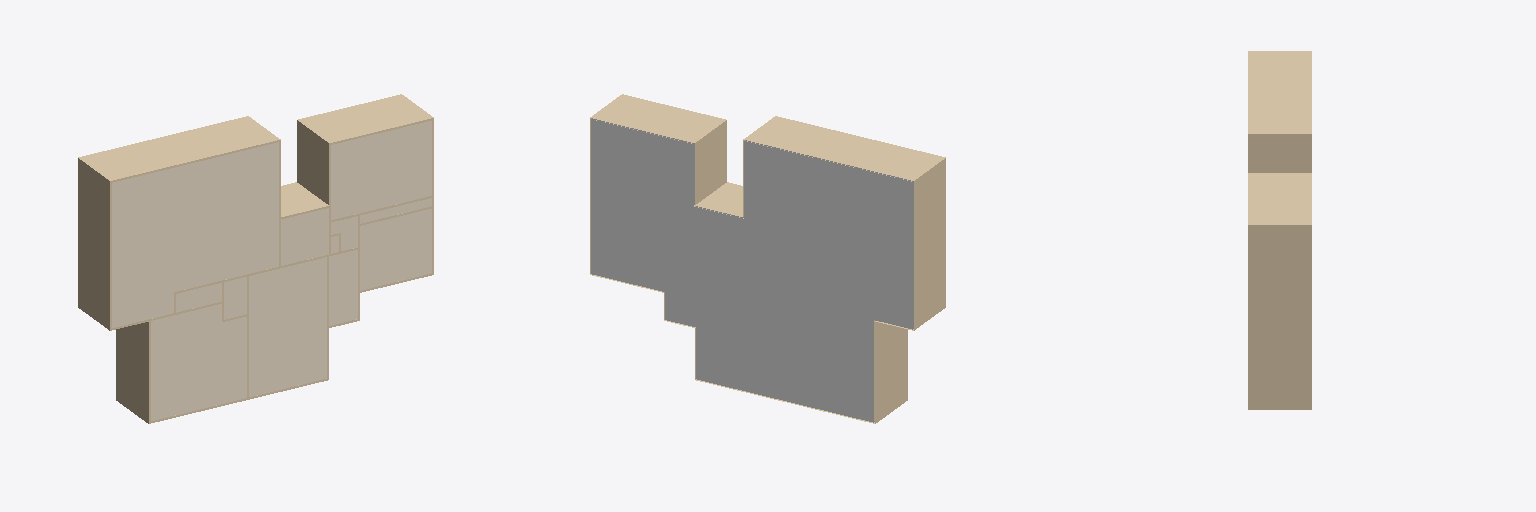
File: punch_TEST_1a1a1a.obj
The picture shows the model from 3 angles: view 1: azimuth 30°, elevation 25°; view 2: azimuth 150°, elevation 25°; view 3: azimuth 270°, elevation 25°; orthographic projection.
Visible parts, largest first — view 1: Mesh_170, Mesh_171, Mesh_143, Mesh_142, Mesh_169, Mesh_209, Mesh_211, Mesh_147, Mesh_189, Mesh_227, Mesh_140, Mesh_190 (+21 smaller); view 2: Mesh_186, Mesh_187, Mesh_143, Mesh_142, Mesh_185, Mesh_219, Mesh_221, Mesh_203, Mesh_147, Mesh_235, Mesh_204, Mesh_140 (+21 smaller); view 3: Mesh_148, Mesh_143, Mesh_147, Mesh_144, Mesh_138.
Boxes of the visible parts, x1,y1,x2,y2 form: Mesh_170: [112, 183, 278, 291]; Mesh_171: [113, 142, 278, 218]; Mesh_143: [78, 116, 280, 180]; Mesh_142: [78, 158, 109, 330]; Mesh_169: [112, 185, 173, 327]; Mesh_209: [152, 317, 246, 420]; Mesh_211: [151, 320, 221, 419]; Mesh_147: [298, 94, 433, 142]; Mesh_189: [249, 315, 326, 396]; Mesh_227: [331, 121, 429, 204]; Mesh_140: [116, 322, 148, 423]; Mesh_190: [249, 257, 326, 326]; Mesh_186: [745, 182, 912, 292]; Mesh_187: [744, 141, 910, 218]; Mesh_143: [743, 116, 945, 180]; Mesh_142: [914, 158, 945, 330]; Mesh_185: [849, 183, 912, 328]; Mesh_219: [776, 315, 873, 422]; Mesh_221: [802, 320, 873, 421]; Mesh_203: [697, 315, 775, 397]; Mesh_147: [590, 94, 725, 142]; Mesh_235: [591, 119, 693, 205]; Mesh_204: [696, 256, 774, 327]; Mesh_140: [875, 322, 907, 423]; Mesh_148: [1248, 225, 1311, 381]; Mesh_143: [1248, 51, 1311, 133]; Mesh_147: [1248, 173, 1311, 224]; Mesh_144: [1248, 134, 1311, 172]; Mesh_138: [1248, 382, 1311, 409].
Bounding box in the file's own units: 1296 × 964 × 224.